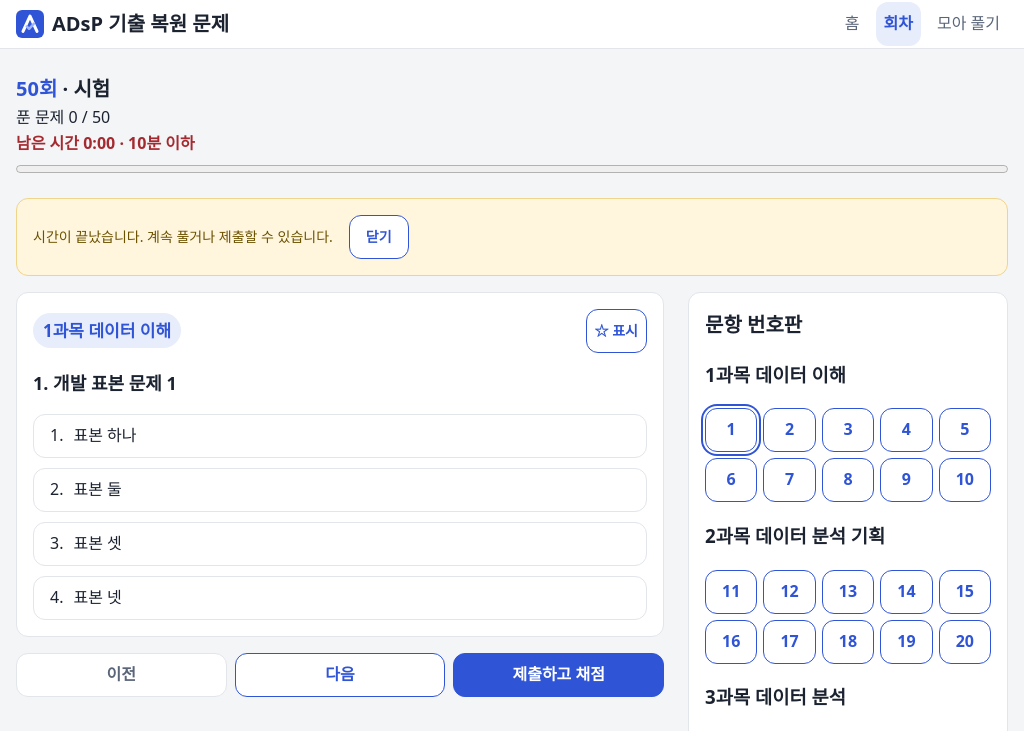
Test case: ticks, warns, alerts once, shows overtime, never auto submits and clears timer
expect the heading "50회 · 시험" is shown: met, box [16,75,110,102]
expect the text "남은 시간 10:00 · 10분 이하" is shown: met, box [16,132,195,154]
Click the button "닫기". click: click(379, 237)
box: [349,215,409,259]
Wait 1000 ms
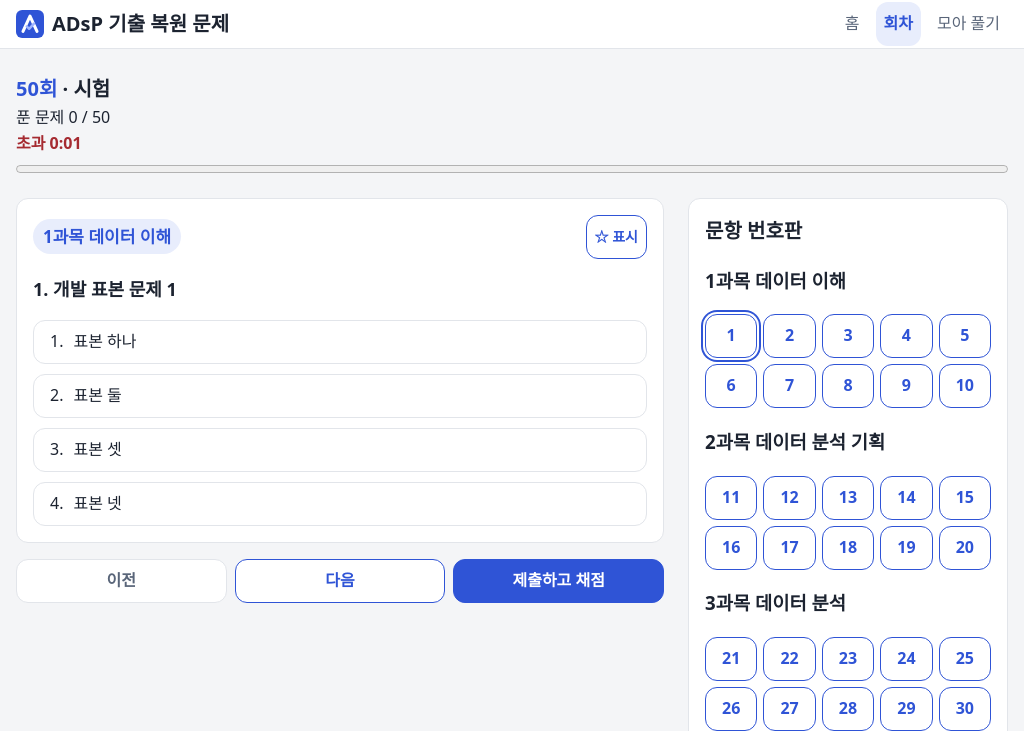
expect the message "시간이 끝났습니다. 계속 풀거나 제출할 수 있습니다. 닫기" is gone: met
expect the text "초과 0:01" is shown: met, box [16,132,82,154]
expect the text "10분 이하" is gone: met
